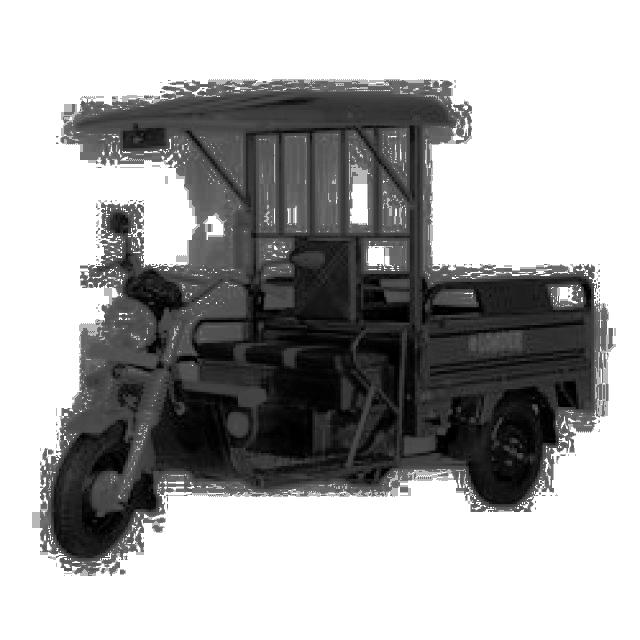Toto: (32, 70, 417, 581)
